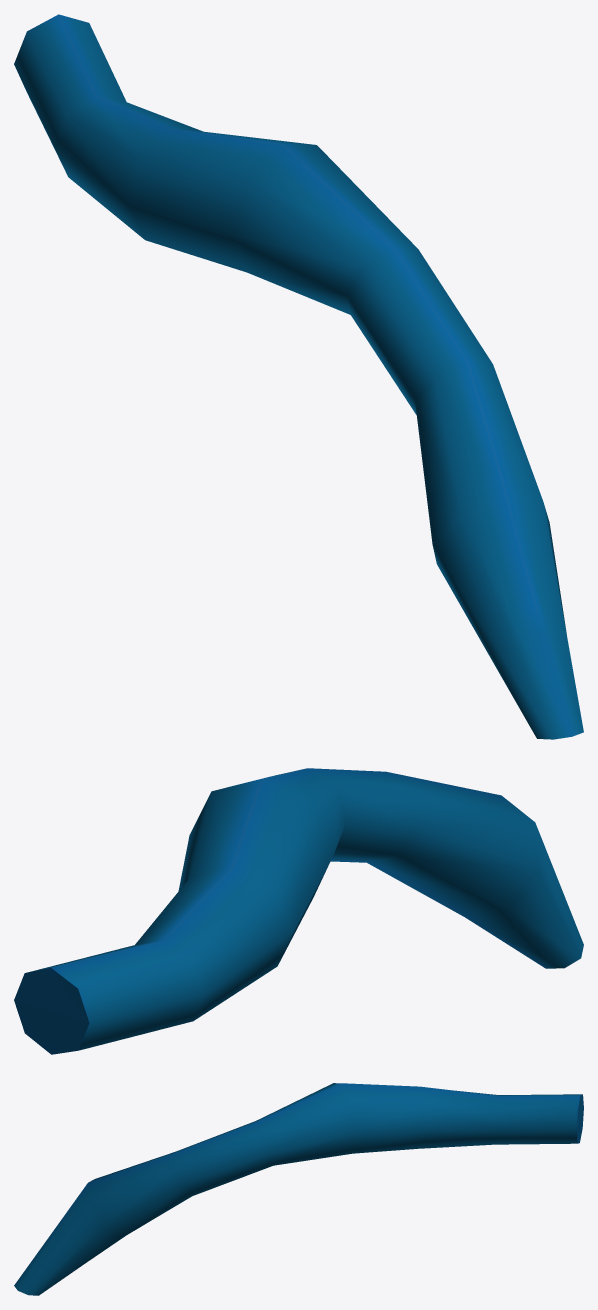
Rendered from Chariot03_lingjian_04.FBX.
3 views of the same model, one above another, from view 1: azimuth 30°, elevation 25°; view 2: azimuth 150°, elevation 25°; view 3: azimuth 270°, elevation 25° (orthographic). The views are drawn at different scales.
Visible parts, largest first — view 1: Chariot03_lingjian_04; view 2: Chariot03_lingjian_04; view 3: Chariot03_lingjian_04.
Boxes of the visible parts, x1=… form: Chariot03_lingjian_04: x1=14, y1=14, x2=583, y2=739; Chariot03_lingjian_04: x1=14, y1=768, x2=583, y2=1054; Chariot03_lingjian_04: x1=14, y1=1083, x2=583, y2=1295.
Size of the model in its own units: 0.0924 by 0.2062 by 0.5027.
Materials: 1 (1 with a texture image).
